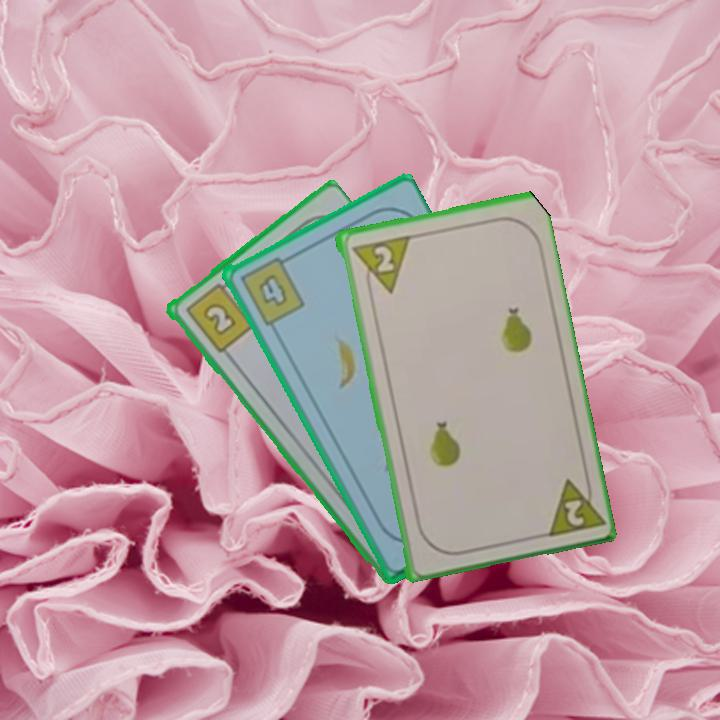2b: (181, 276, 256, 356)
2p: (540, 469, 604, 540), (347, 231, 411, 299)
4b: (235, 252, 307, 328)
